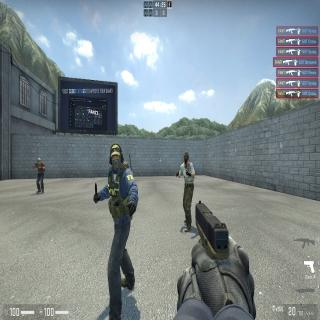CT-Body: (109, 145, 137, 286)
CT-Head: (110, 145, 122, 172)
T-Body: (182, 150, 195, 231), (34, 156, 44, 192)
T-Head: (184, 152, 188, 163), (36, 157, 40, 164)
